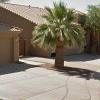Palm tree: (28, 1, 87, 76)
